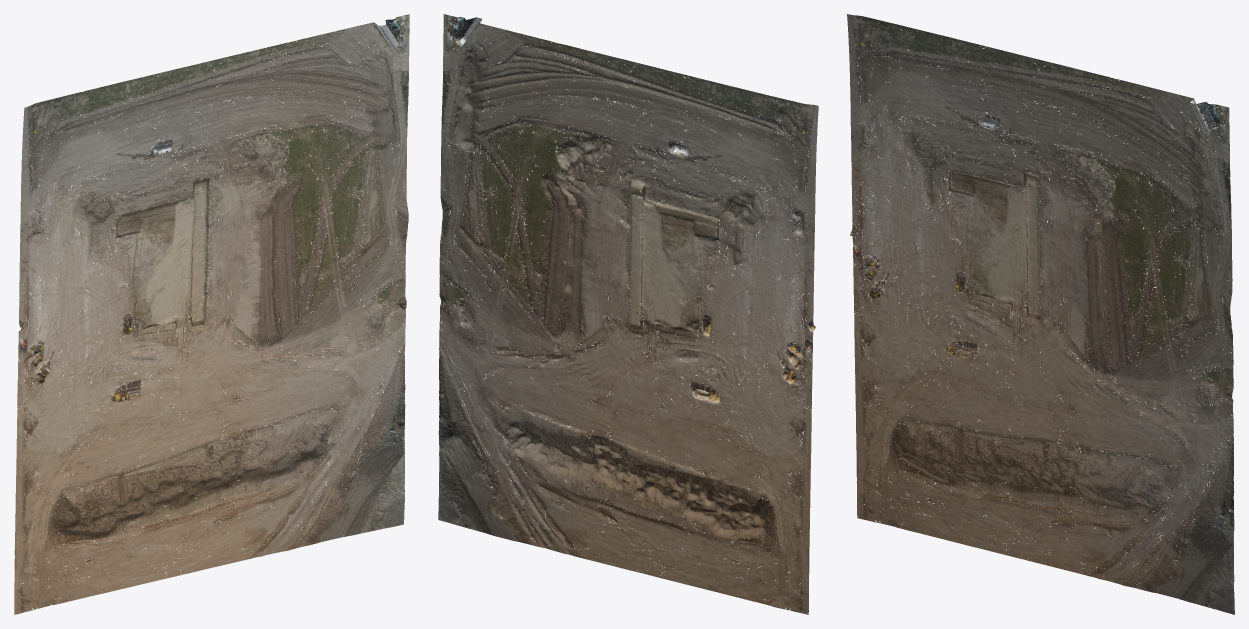
The model's file is sf-south-jordan-utah-construction-site-74faad.glb.
3 views of the same model, side by side, from view 1: azimuth 30°, elevation 25°; view 2: azimuth 150°, elevation 25°; view 3: azimuth 330°, elevation 25° (orthographic). The views are drawn at different scales.
Visible parts, largest first — view 1: Object_2, Object_3, Object_10, Object_14, Object_12, Object_13, Object_11, Object_15, Object_16, Object_17, Object_4, Object_5 (+4 smaller); view 2: Object_2, Object_3, Object_10, Object_14, Object_12, Object_15, Object_13, Object_16, Object_11, Object_17, Object_4, Object_5 (+4 smaller); view 3: Object_2, Object_3, Object_10, Object_14, Object_12, Object_13, Object_11, Object_15, Object_16, Object_17, Object_4, Object_5 (+4 smaller).
Part boxes in pixels (x1,y1,x2,y2): Object_2: (14, 32, 406, 614); Object_3: (26, 48, 408, 538); Object_10: (15, 58, 407, 536); Object_14: (32, 45, 405, 538); Object_12: (28, 47, 402, 597); Object_13: (22, 22, 408, 609); Object_11: (18, 36, 405, 592); Object_15: (33, 27, 409, 557); Object_16: (19, 24, 408, 582); Object_17: (15, 20, 402, 582); Object_4: (18, 14, 409, 608); Object_5: (19, 48, 405, 566); Object_2: (442, 32, 809, 614); Object_3: (442, 48, 806, 537); Object_10: (440, 59, 812, 534); Object_14: (438, 46, 800, 539); Object_12: (441, 48, 804, 597); Object_15: (439, 27, 806, 557); Object_13: (440, 23, 800, 610); Object_16: (439, 17, 813, 582); Object_11: (439, 36, 818, 592); Object_17: (452, 17, 814, 582); Object_4: (442, 14, 813, 609); Object_5: (438, 49, 813, 565); Object_2: (856, 53, 1230, 573); Object_3: (859, 33, 1230, 556); Object_10: (853, 59, 1232, 576); Object_14: (866, 72, 1234, 614); Object_12: (861, 53, 1232, 598); Object_13: (865, 51, 1232, 576); Object_11: (847, 14, 1233, 559); Object_15: (859, 16, 1233, 582); Object_16: (852, 36, 1234, 563); Object_17: (851, 15, 1216, 592); Object_4: (852, 31, 1230, 585); Object_5: (851, 32, 1234, 583).
Size of the model in its own units: 169 by 216 by 12.34.
Materials: 16 (16 with a texture image).
